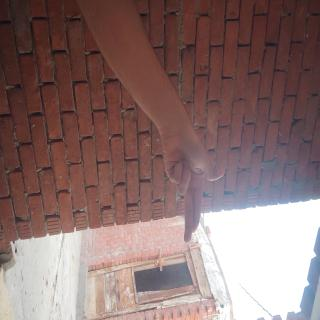GHAYN: (96, 132, 190, 221)
